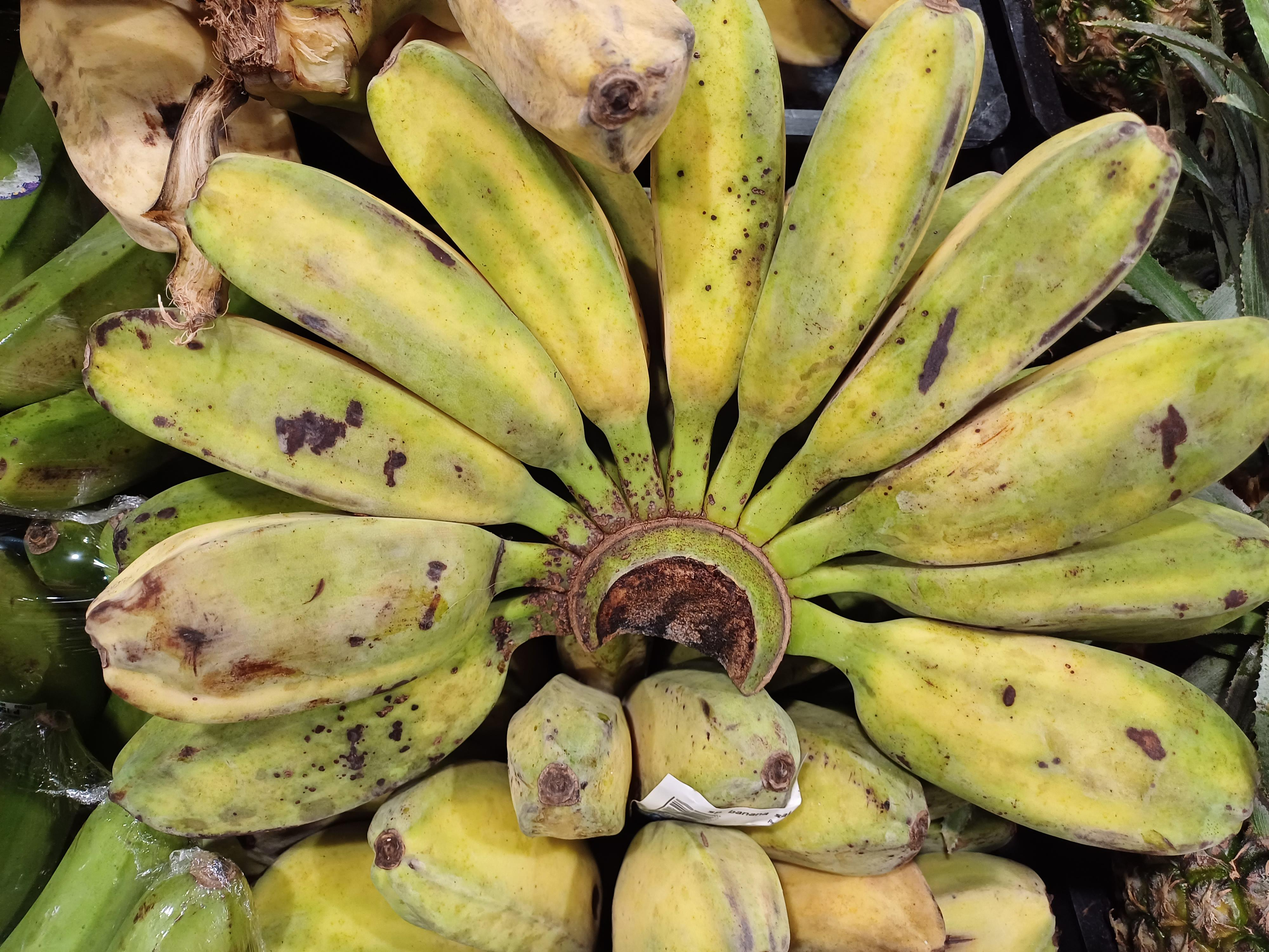underripe: (85, 0, 1269, 855), (253, 668, 1060, 952)
